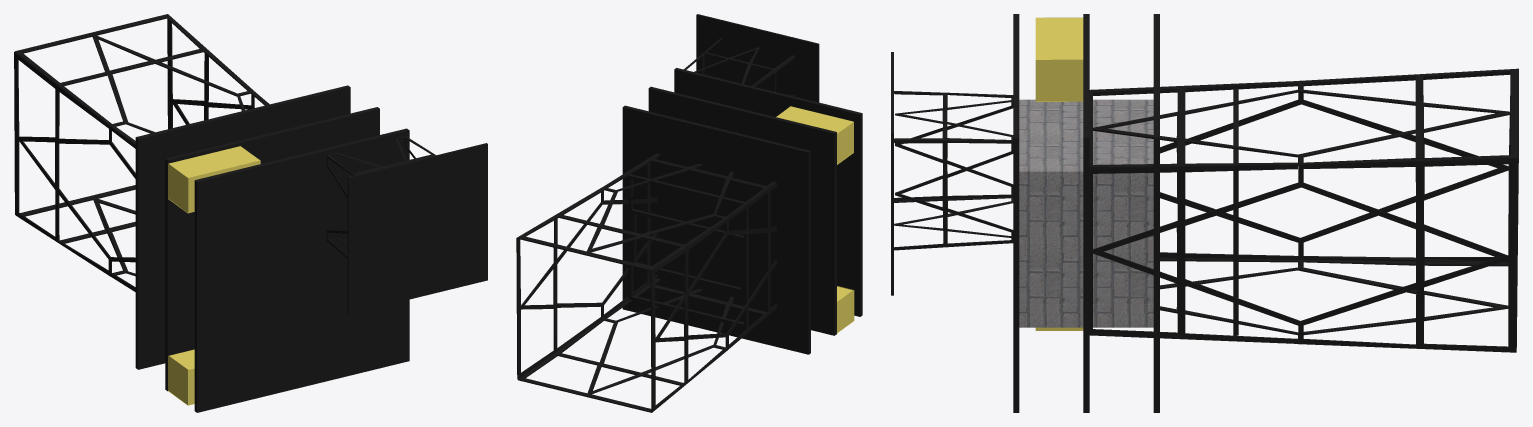
The model's file is torreDeControl.glb.
3 renders of one model, left to right at view 1: azimuth 30°, elevation 25°; view 2: azimuth 150°, elevation 25°; view 3: azimuth 270°, elevation 25°, orthographic. The views are drawn at different scales.
Visible parts, largest first — view 1: TorreDeControlFM; view 2: TorreDeControlFM; view 3: TorreDeControlFM.
Part boxes in pixels (<box>): TorreDeControlFM: <box>14,14,487,412</box>; TorreDeControlFM: <box>516,14,862,412</box>; TorreDeControlFM: <box>891,14,1518,412</box>.
Size of the model in its own units: 7.84 by 7.75 by 14.89.
Materials: 3 (1 with a texture image).
